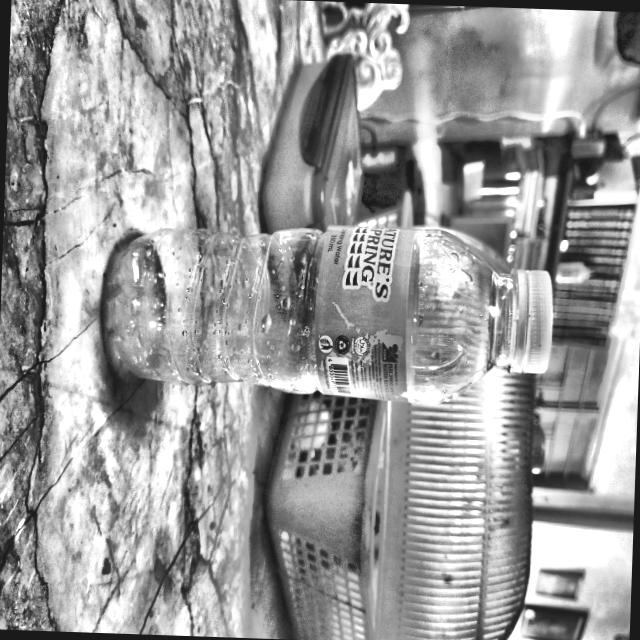Plastic-Bottle: (99, 211, 557, 407)
